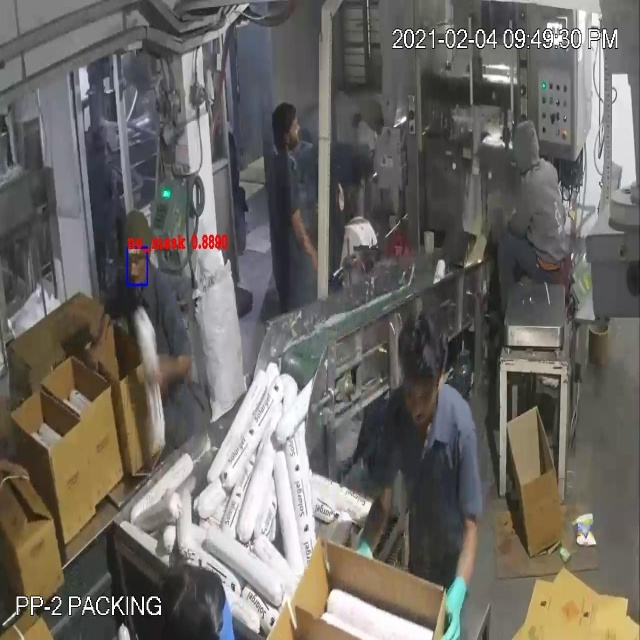Guantes: (437, 572, 474, 640)
Sin_guantes: (135, 332, 199, 409), (74, 304, 115, 376), (287, 200, 323, 276)
